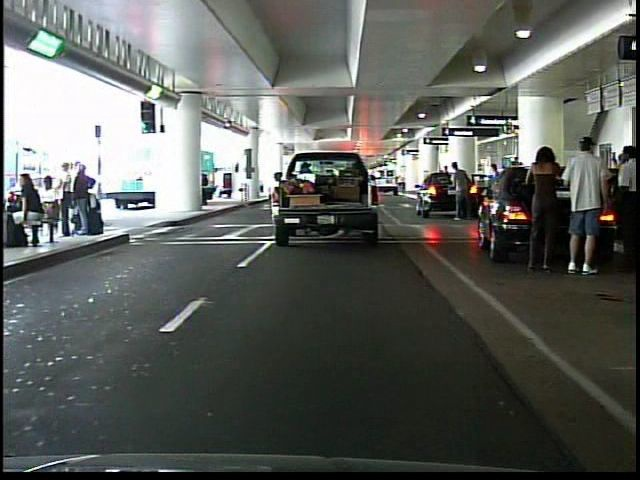person: (557, 132, 611, 278), (523, 136, 570, 280), (609, 143, 640, 218), (447, 155, 475, 227), (483, 159, 504, 217)
